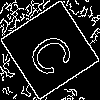C: (25, 25, 84, 80)
